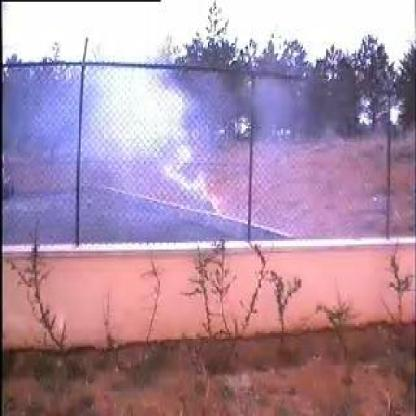-: (42, 66, 240, 239)
